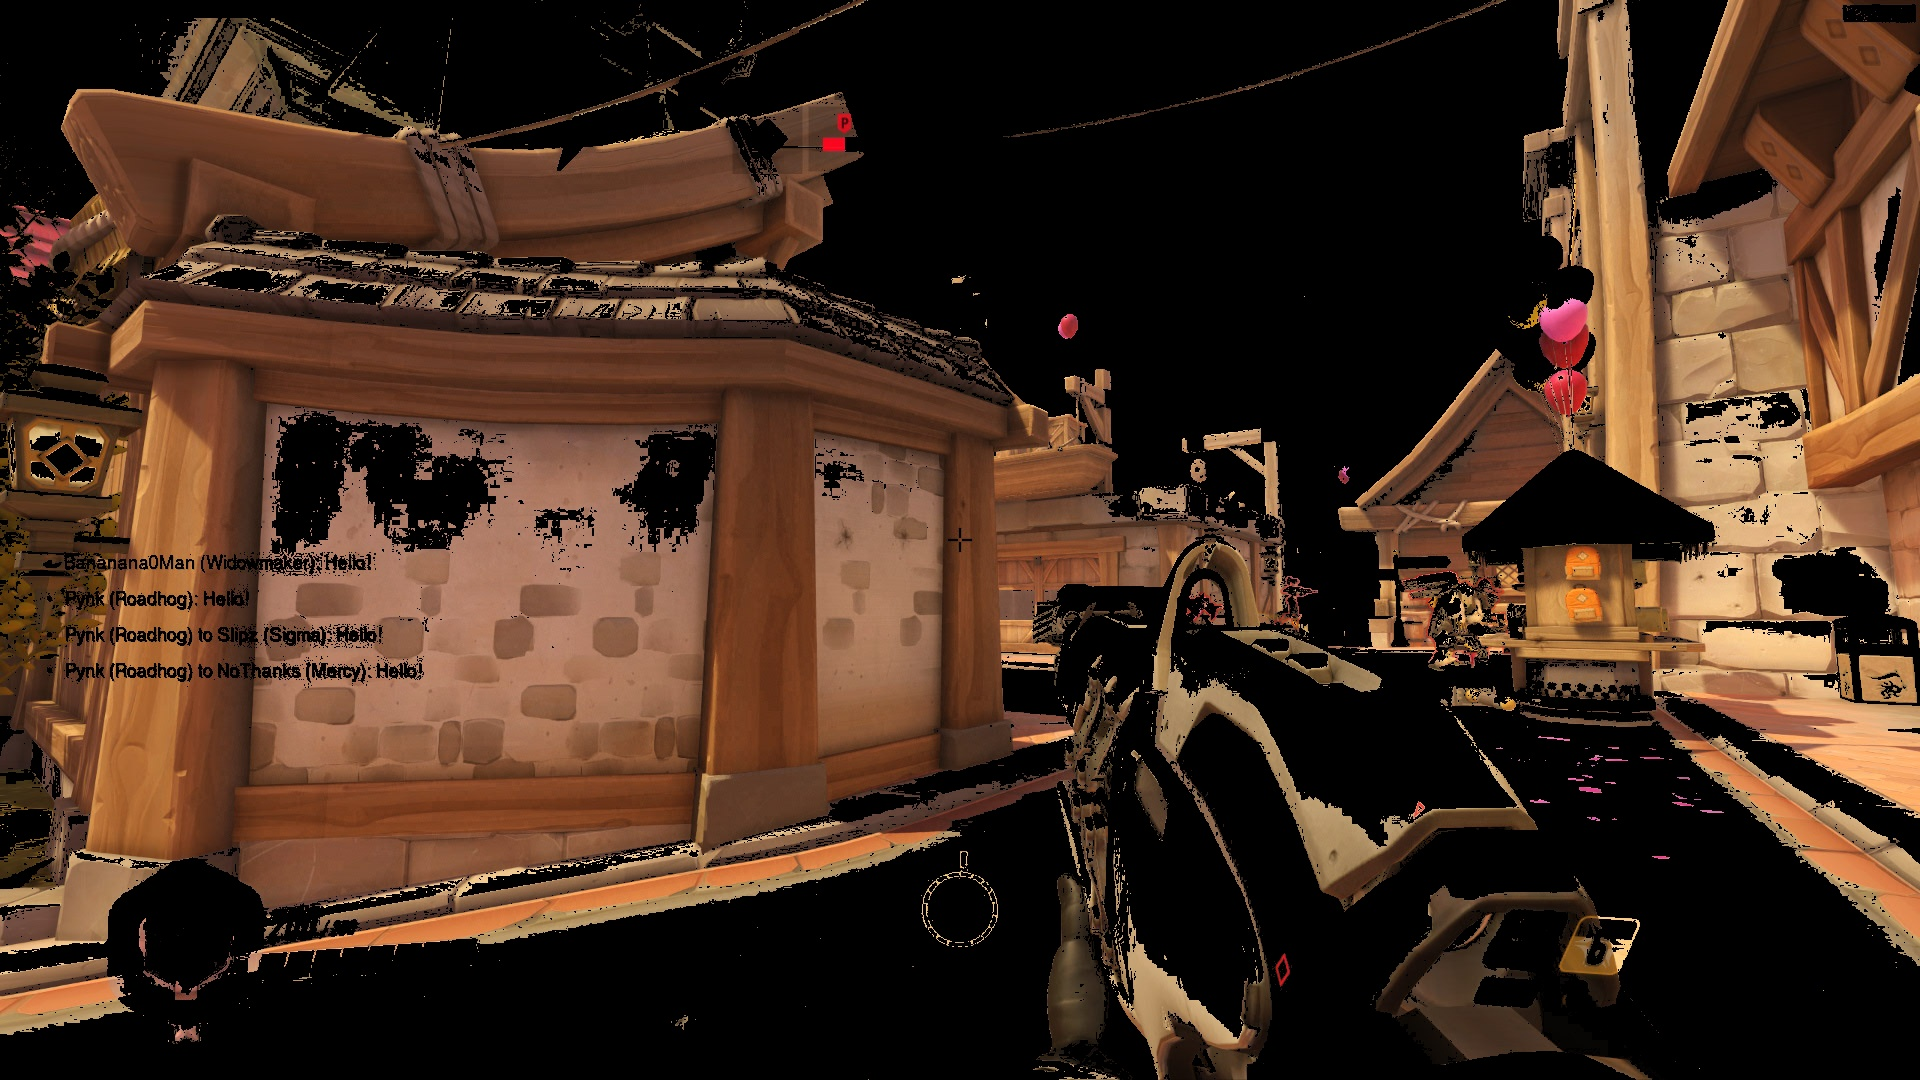widowmaker: (1275, 574, 1316, 638)
